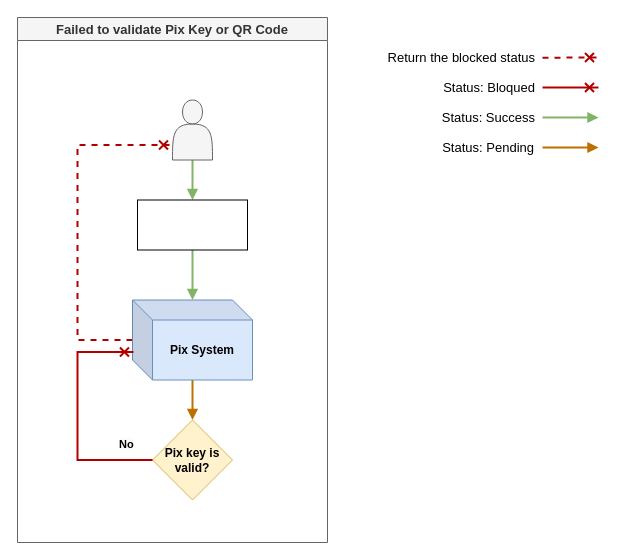
The diagram is 625 pixels wide and 560 high, and some of its shapes have lost their labels. The shapes that lost their labels are listed below. From the top down, each one's centre as x and y in pixels, then its label:
At (192,129): "Client".
At (192,224): "API Gateway".
